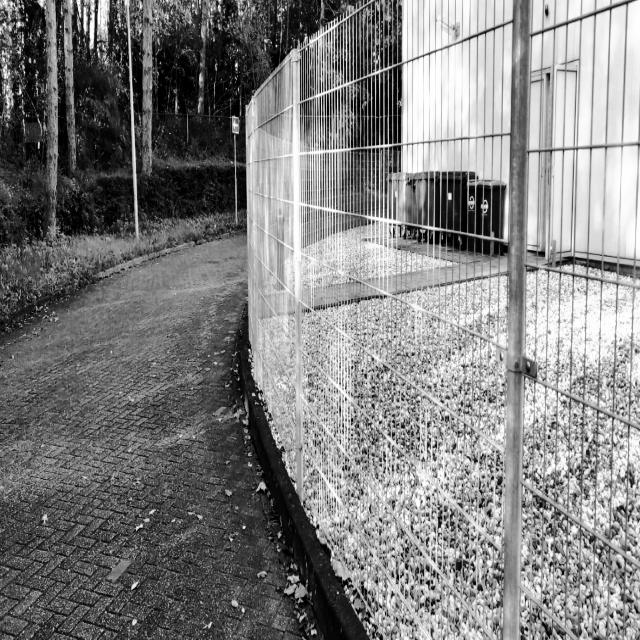fences: (325, 19, 640, 640), (242, 63, 313, 470)
